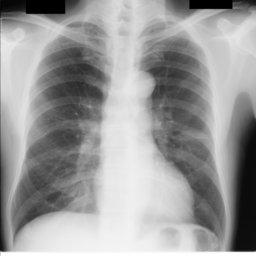left lobe: (142, 21, 225, 240)
right lobe: (13, 22, 110, 232)
